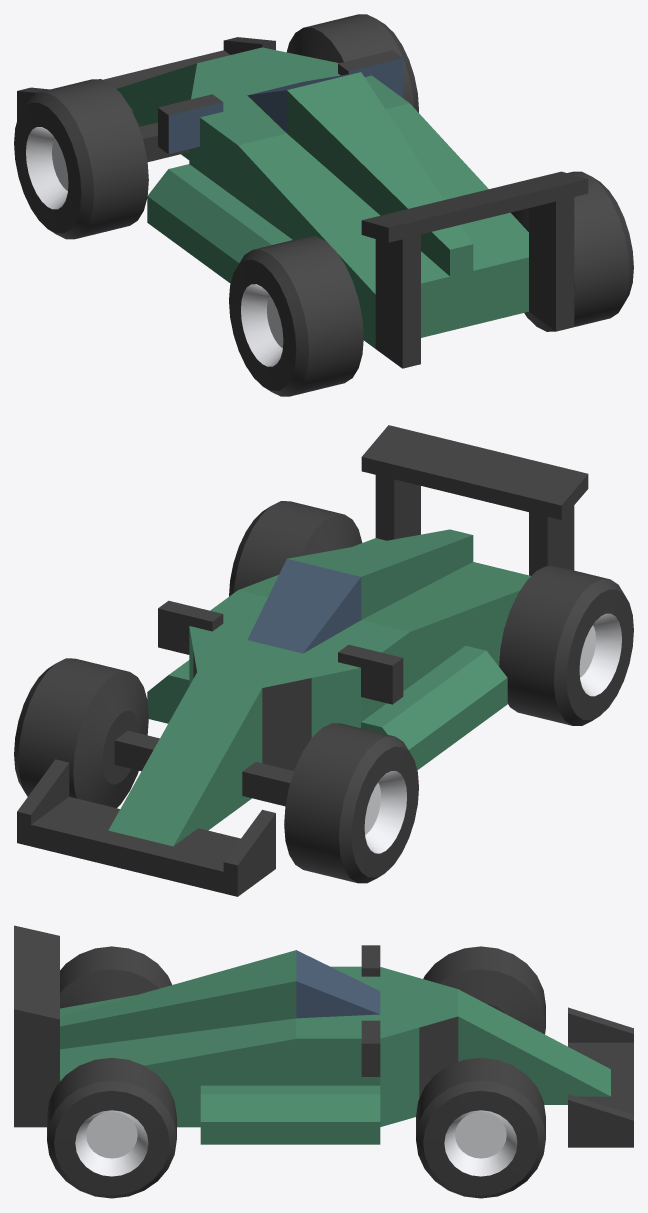
Rendered from race-car-green.dae.
3 renders of one model, top to bottom at view 1: azimuth 30°, elevation 25°; view 2: azimuth 150°, elevation 25°; view 3: azimuth 270°, elevation 25°, orthographic. The views are drawn at different scales.
Parts seen in each view (by area): view 1: body, wheelBackRight, wheelFrontRight, wheelBackLeft, wheelFrontLeft; view 2: body, wheelFrontRight, wheelBackRight, wheelFrontLeft, wheelBackLeft; view 3: body, wheelBackLeft, wheelFrontLeft, wheelFrontRight, wheelBackRight.
Boxes of the visible parts, x1,y1,x2,y2 form: body: (17, 37, 588, 368); wheelBackRight: (229, 236, 363, 396); wheelFrontRight: (14, 79, 148, 239); wheelBackLeft: (511, 171, 633, 331); wheelFrontLeft: (287, 14, 418, 112); body: (17, 425, 588, 896); wheelFrontRight: (284, 723, 418, 883); wheelBackRight: (499, 566, 633, 725); wheelFrontLeft: (14, 658, 148, 808); wheelBackLeft: (229, 501, 362, 596); body: (14, 925, 633, 1147); wheelBackLeft: (47, 1057, 176, 1198); wheelFrontLeft: (416, 1057, 545, 1198); wheelFrontRight: (423, 946, 545, 1034); wheelBackRight: (60, 946, 171, 1008).
Size of the model in its own units: 0.7288 by 0.397 by 1.35.
